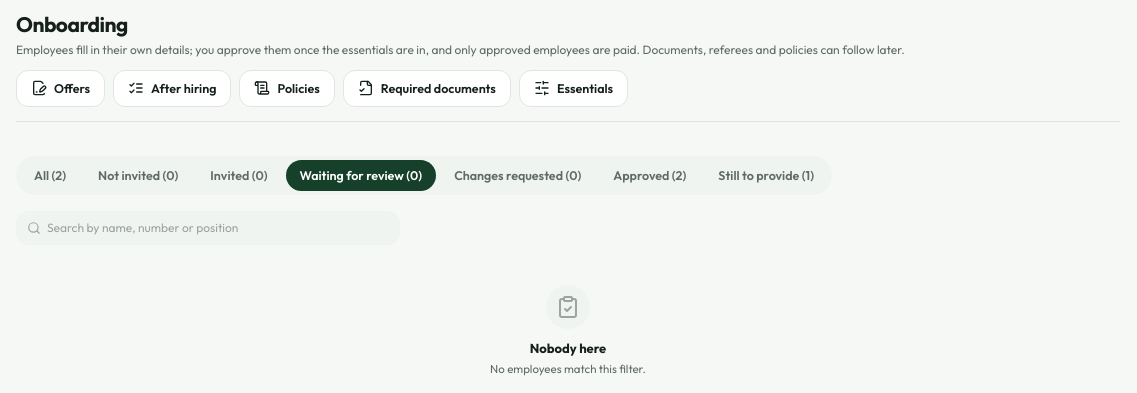
Test case: OnboardingReview › filters to employees with something still to provide, and shows how many and what
Click the button "Still to provide (1)".
click(766, 175)  # box 704,160 -> 828,191
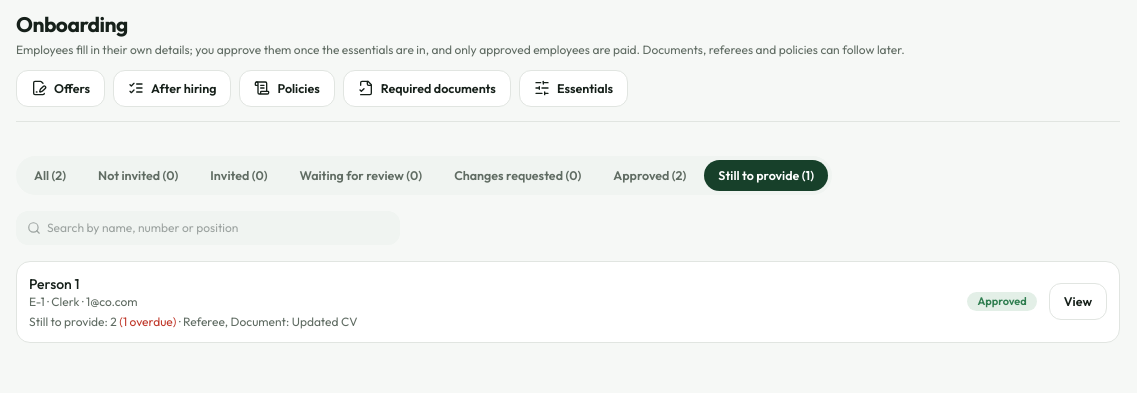
Expected: the text "Person 1" is shown, 29,274 -> 80,292
Expected: the text "Still to provide: 2" reads "Still to provide: 2 (1 overdue) · Referee, Document: Updated CV", 29,314 -> 358,328
